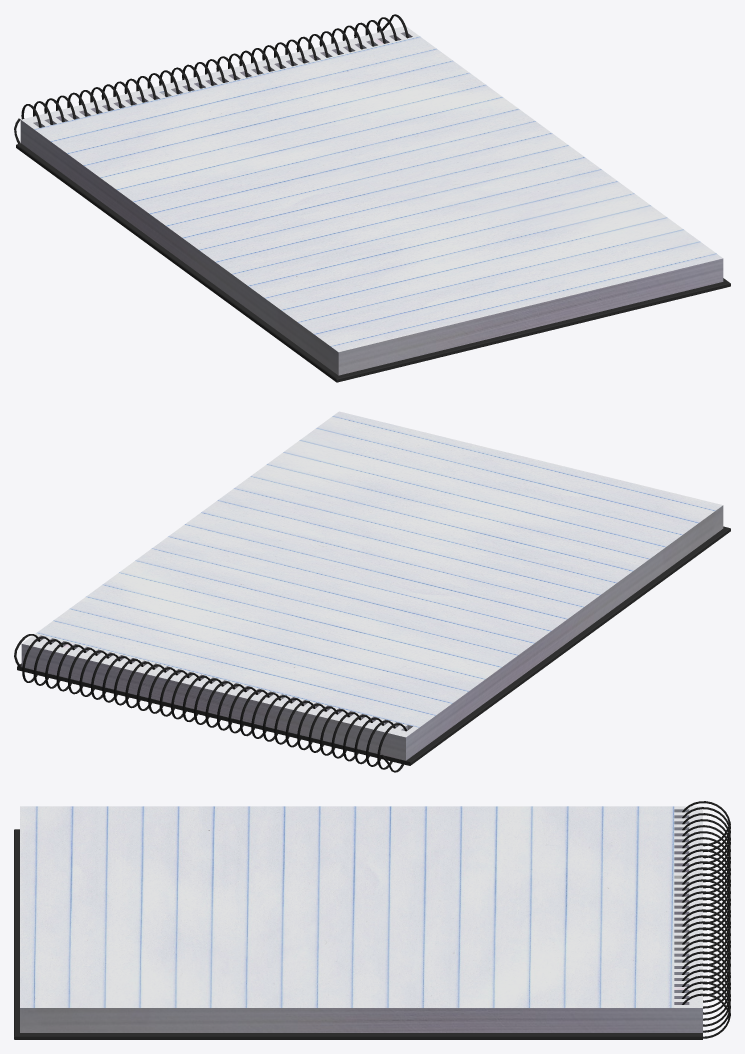
Rendered from Notepad.fbx.
The picture shows the model from 3 angles, top to bottom: view 1: azimuth 30°, elevation 25°; view 2: azimuth 150°, elevation 25°; view 3: azimuth 270°, elevation 25°; orthographic projection. The views are drawn at different scales.
Visible parts, largest first — view 1: Paper, Cartonage, Binding; view 2: Paper, Binding, Cartonage; view 3: Paper, Binding, Cartonage.
Boxes of the visible parts, x1=… form: Paper: x1=20, y1=26, x2=723, y2=375; Cartonage: x1=16, y1=143, x2=730, y2=382; Binding: x1=14, y1=14, x2=408, y2=143; Paper: x1=21, y1=411, x2=723, y2=760; Binding: x1=14, y1=634, x2=407, y2=772; Cartonage: x1=17, y1=526, x2=730, y2=765; Paper: x1=20, y1=806, x2=702, y2=1032; Binding: x1=682, y1=801, x2=730, y2=1038; Cartonage: x1=14, y1=829, x2=702, y2=1039.
Size of the model in its own units: 10.61 by 1.14 by 15.54.
4 materials, 3 textured.
